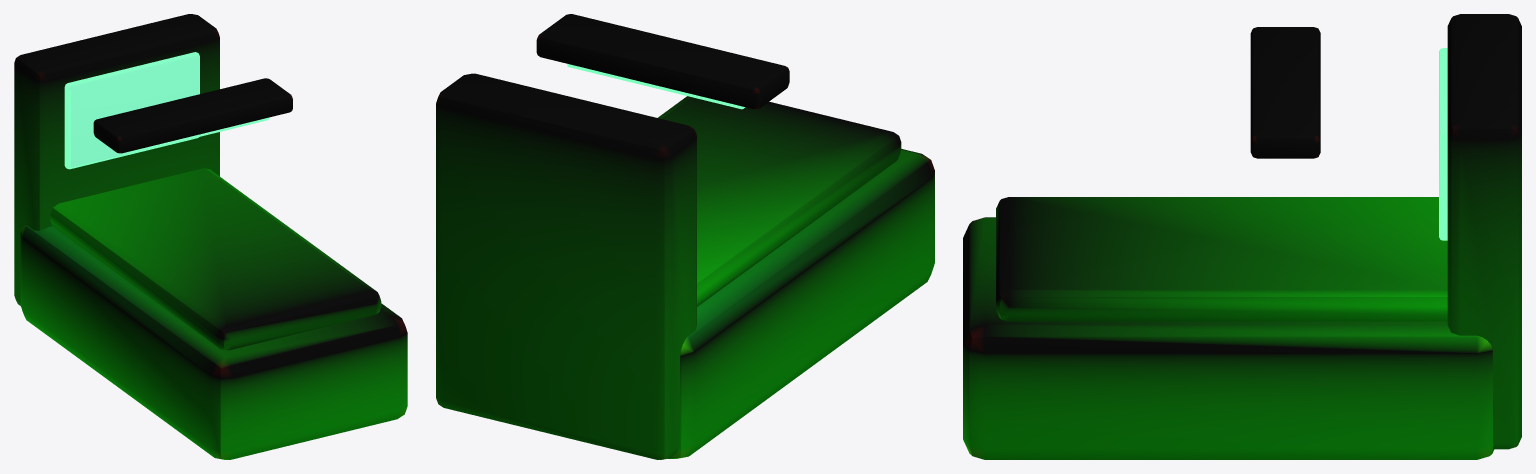
Rendered from hero_med_pod.glb.
3 views of the same model, side by side, from view 1: azimuth 30°, elevation 25°; view 2: azimuth 150°, elevation 25°; view 3: azimuth 270°, elevation 25° (orthographic). The views are drawn at different scales.
Visible parts, largest first — view 1: HeroMedPod; view 2: HeroMedPod; view 3: HeroMedPod.
Boxes of the visible parts, x1,y1,x2,y2 form: HeroMedPod: (14,14,407,459); HeroMedPod: (436,14,934,459); HeroMedPod: (963,14,1521,459).
Size of the model in its own units: 1.35 by 1.7 by 2.55.
